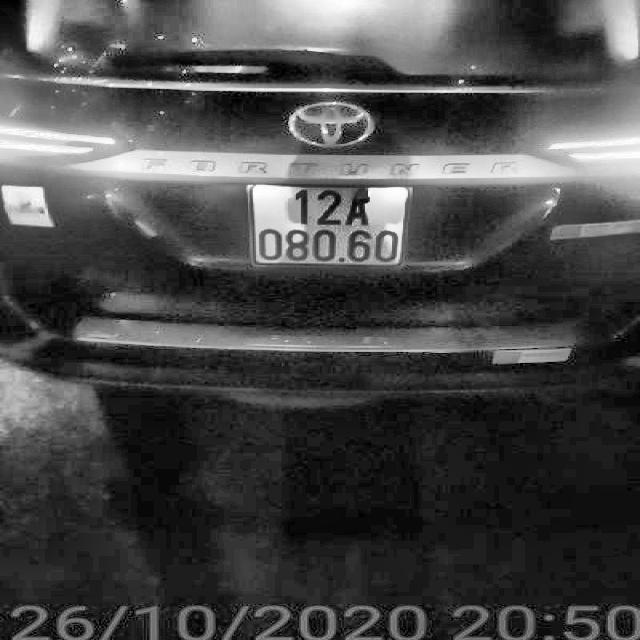plate: (230, 179, 424, 269)
